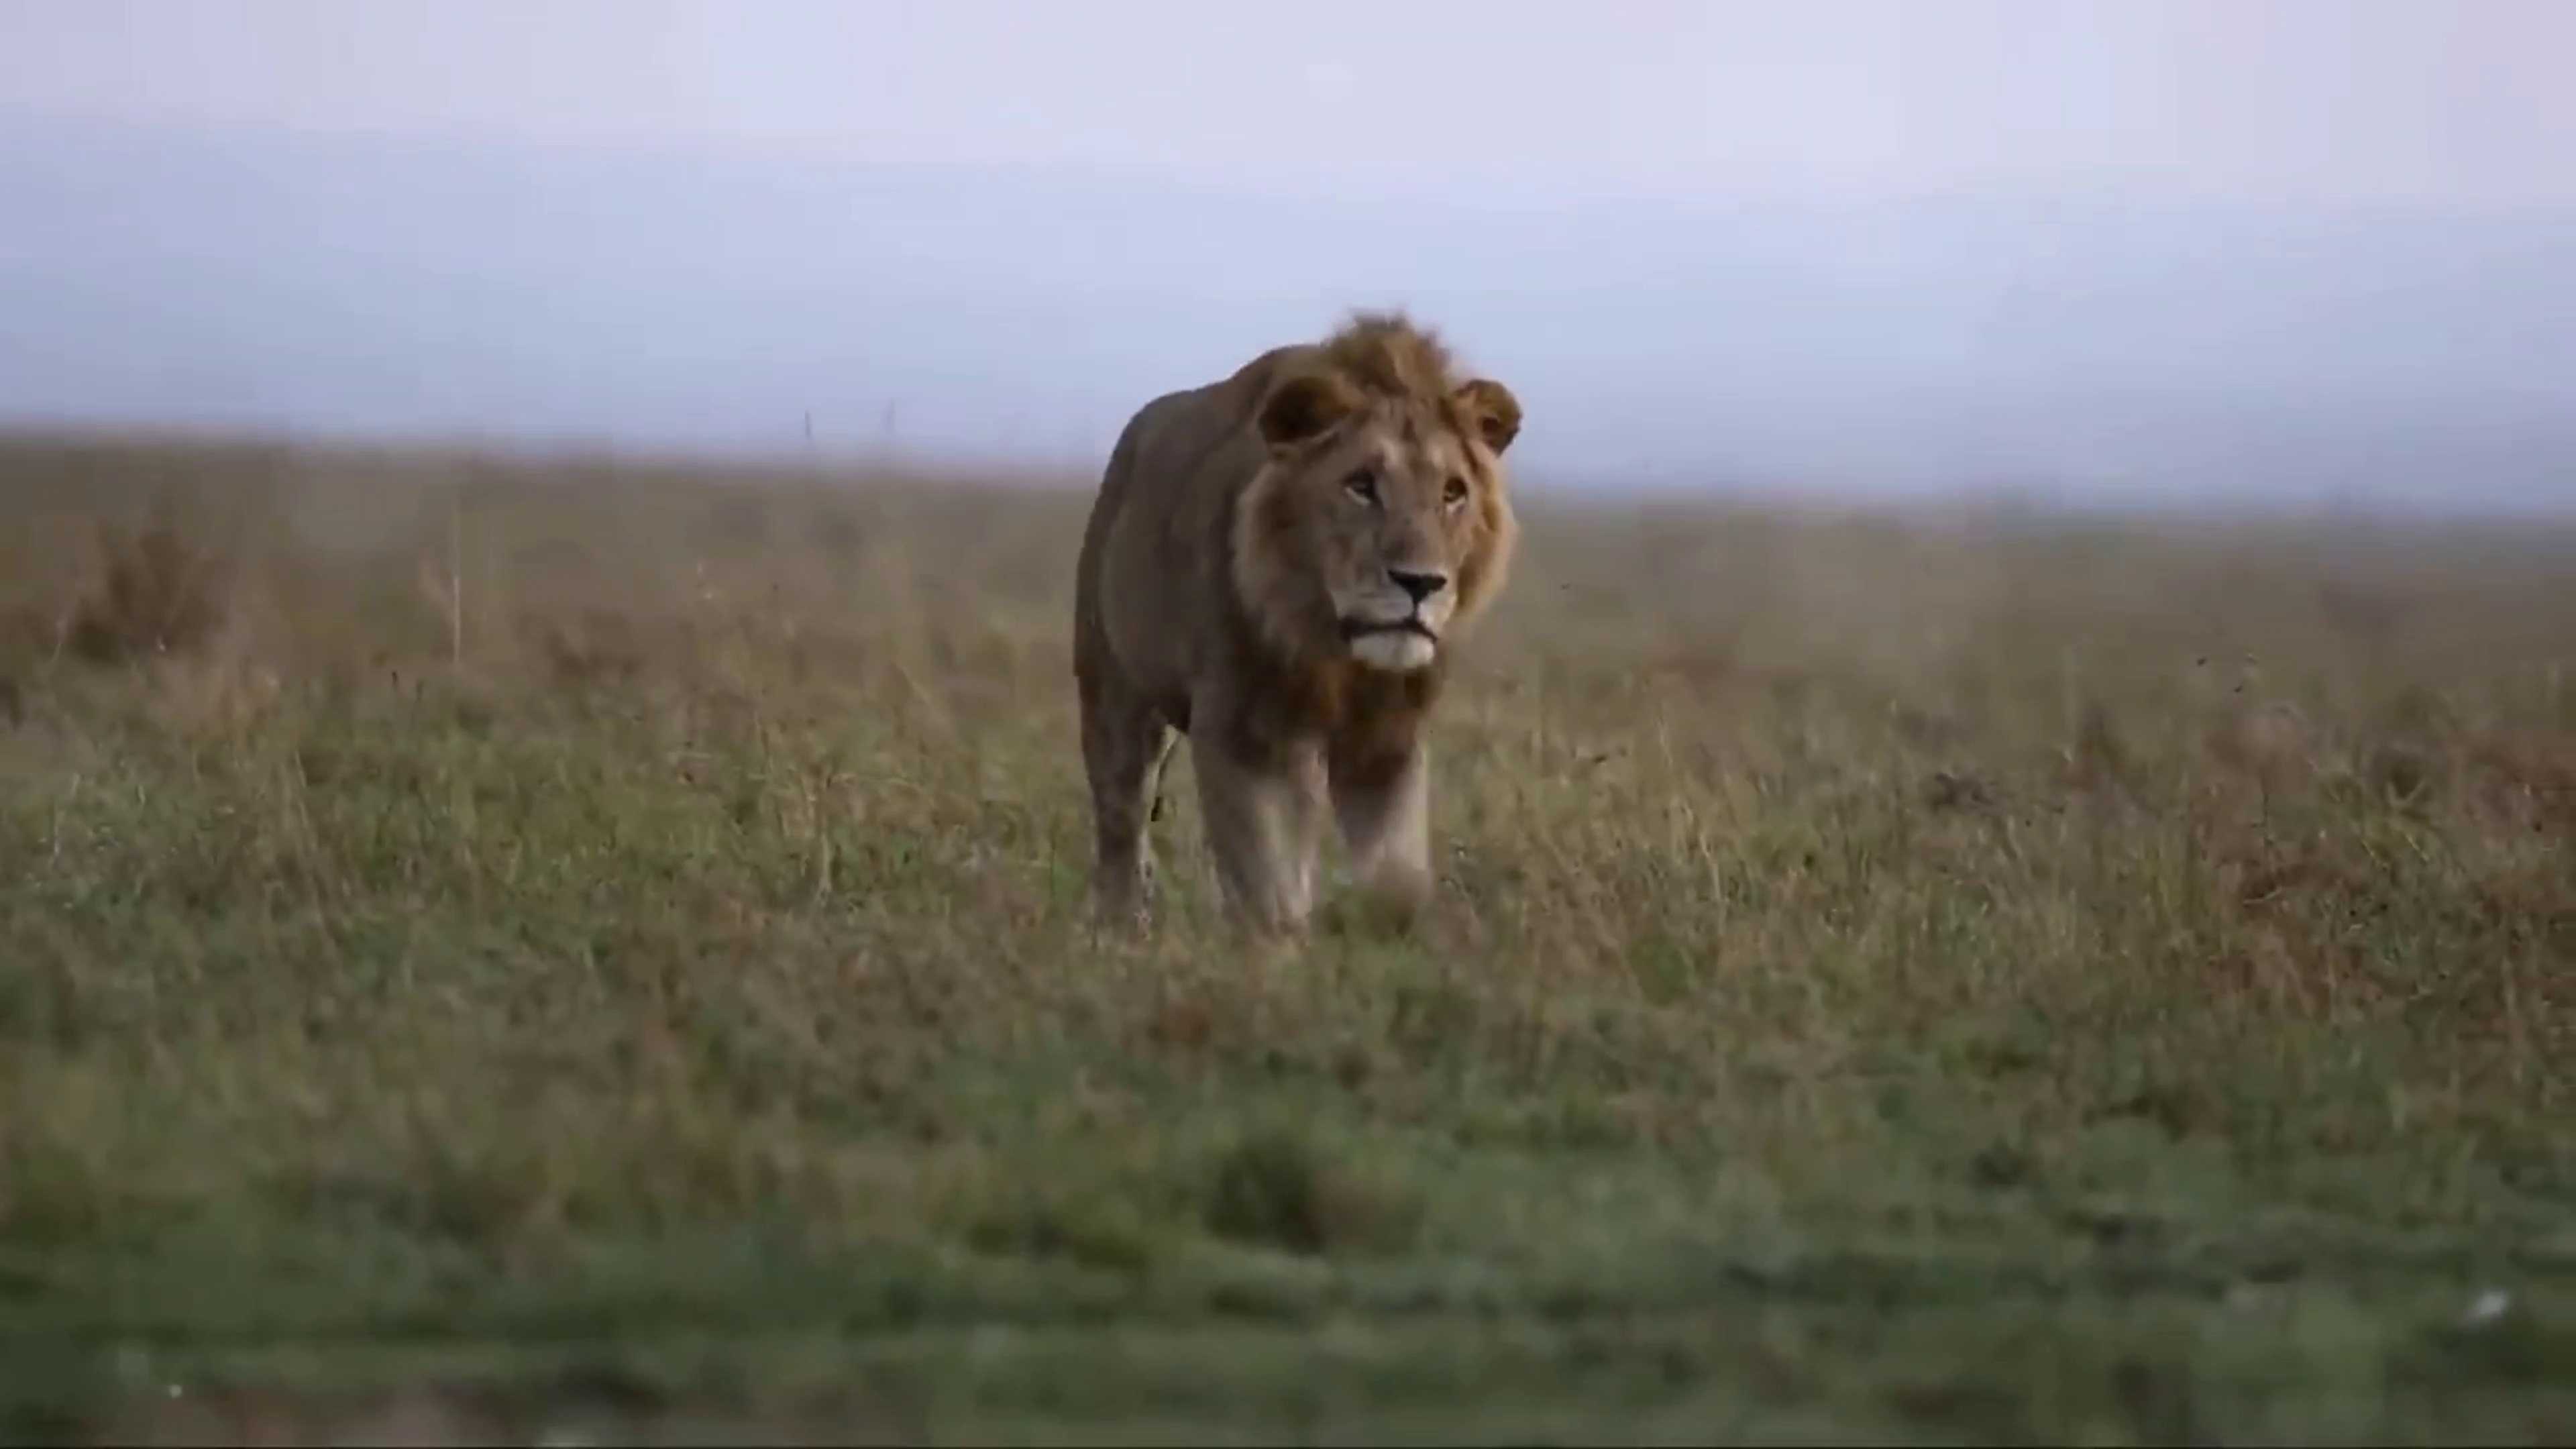Lion: (1072, 308, 1522, 950)
